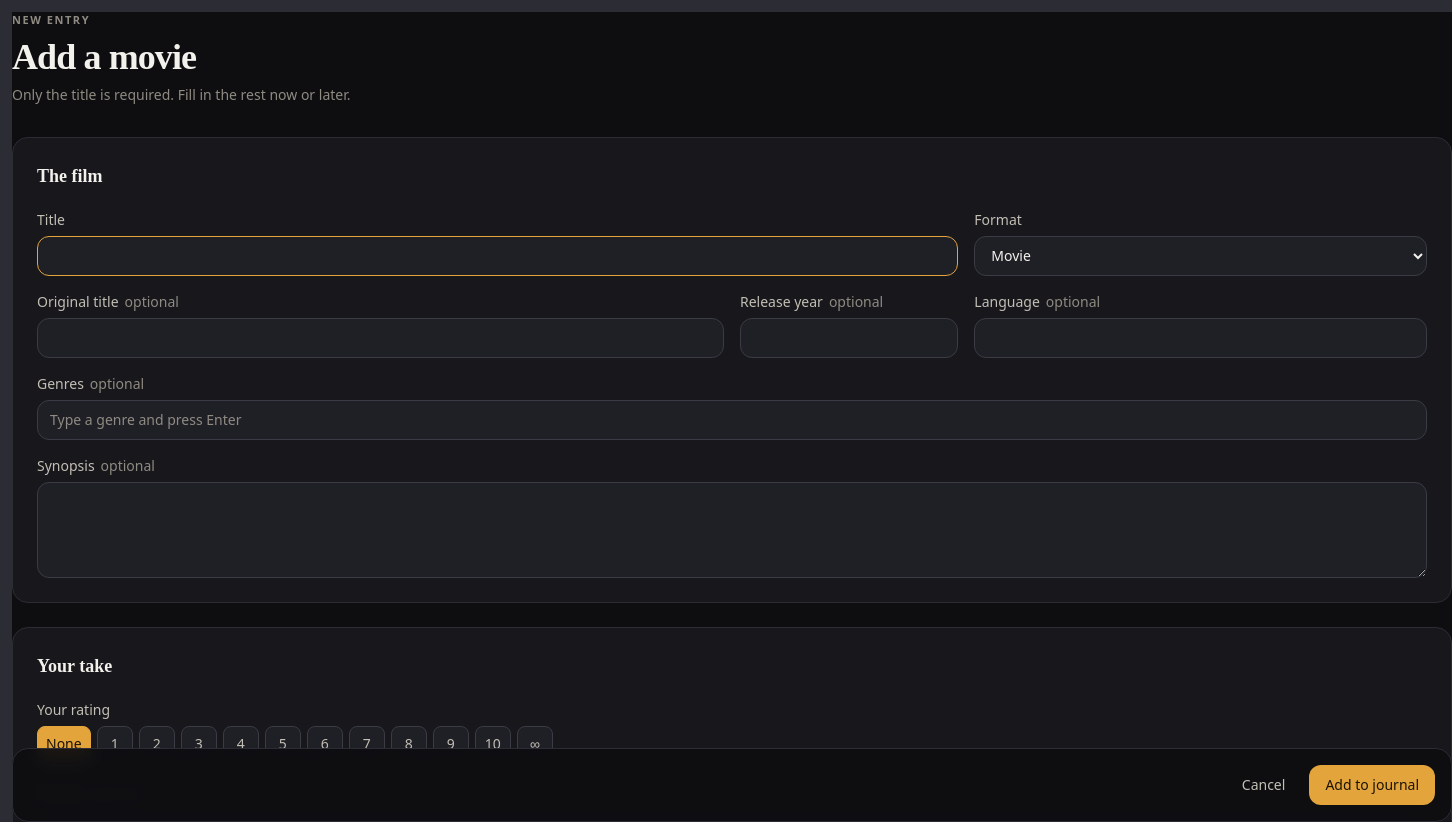
Test: Adding a movie › shows a server-side conflict message
Type "Anything" into the field labelled "Title" at {"x": 498, "y": 256}, box [37, 236, 958, 276]
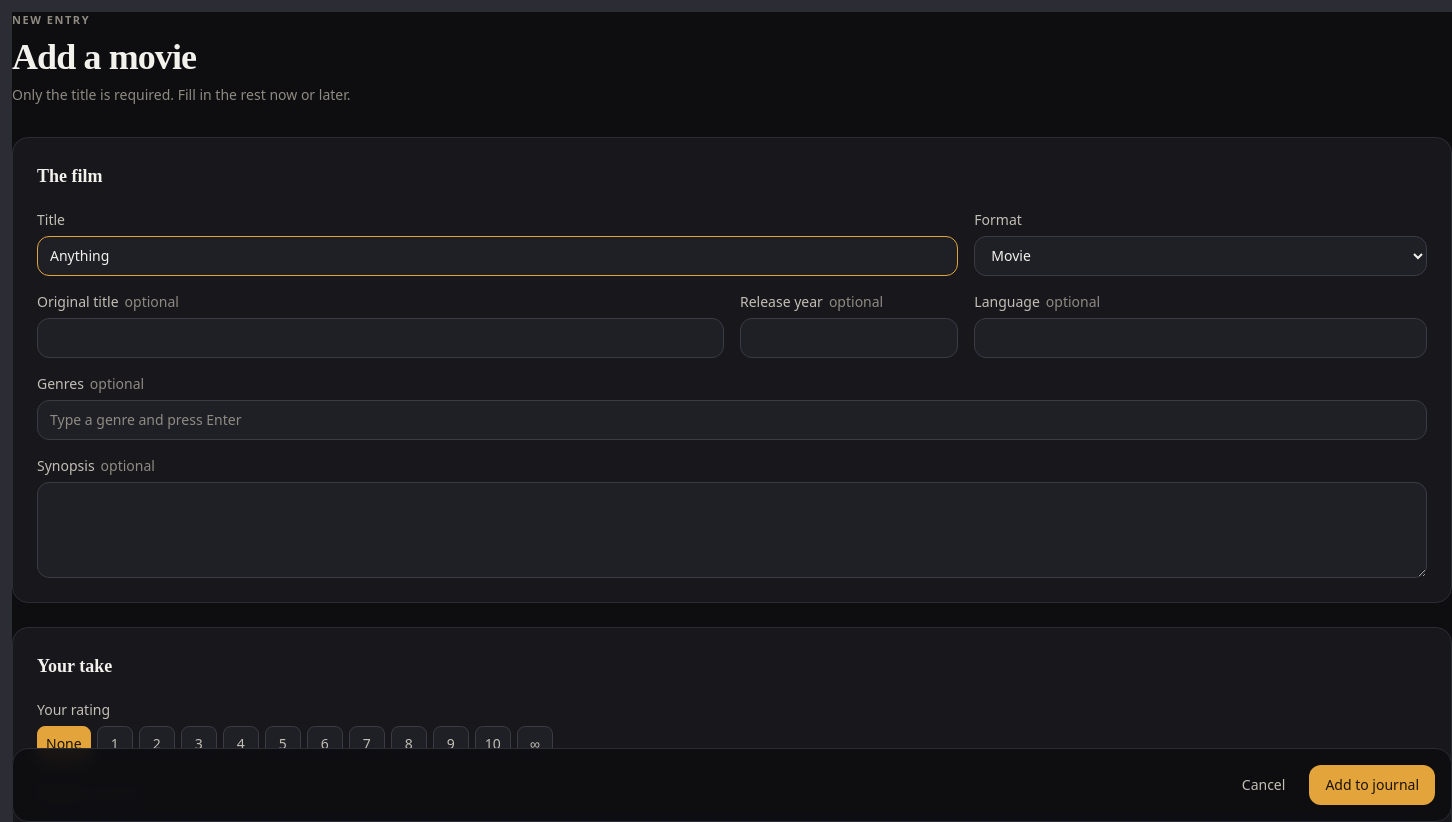
Click the button "Add to journal" at {"x": 1372, "y": 785}, box [1309, 765, 1435, 805]
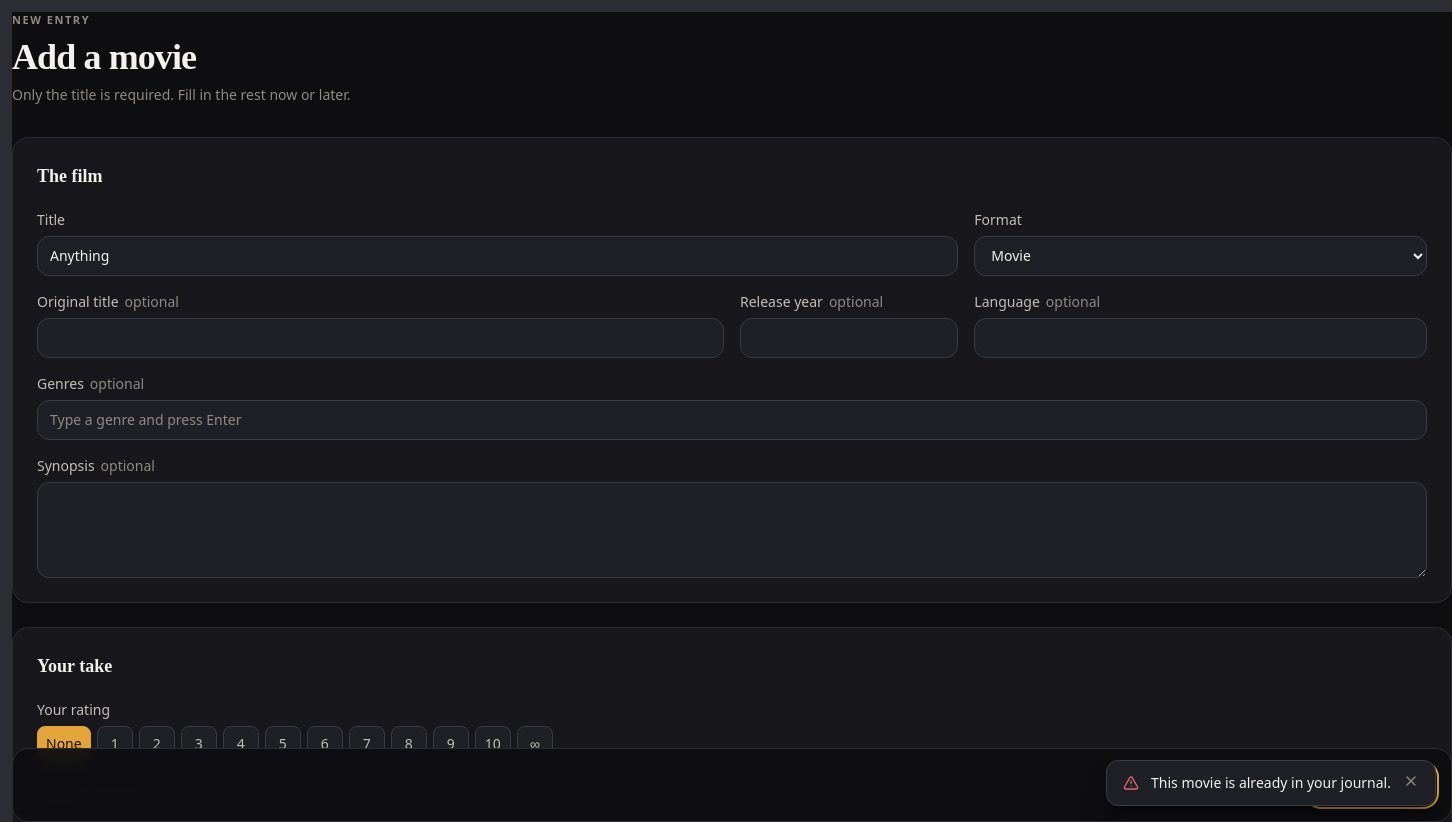
Expected: the text "This movie is already in your journal." is shown, [1151, 773, 1391, 793]
